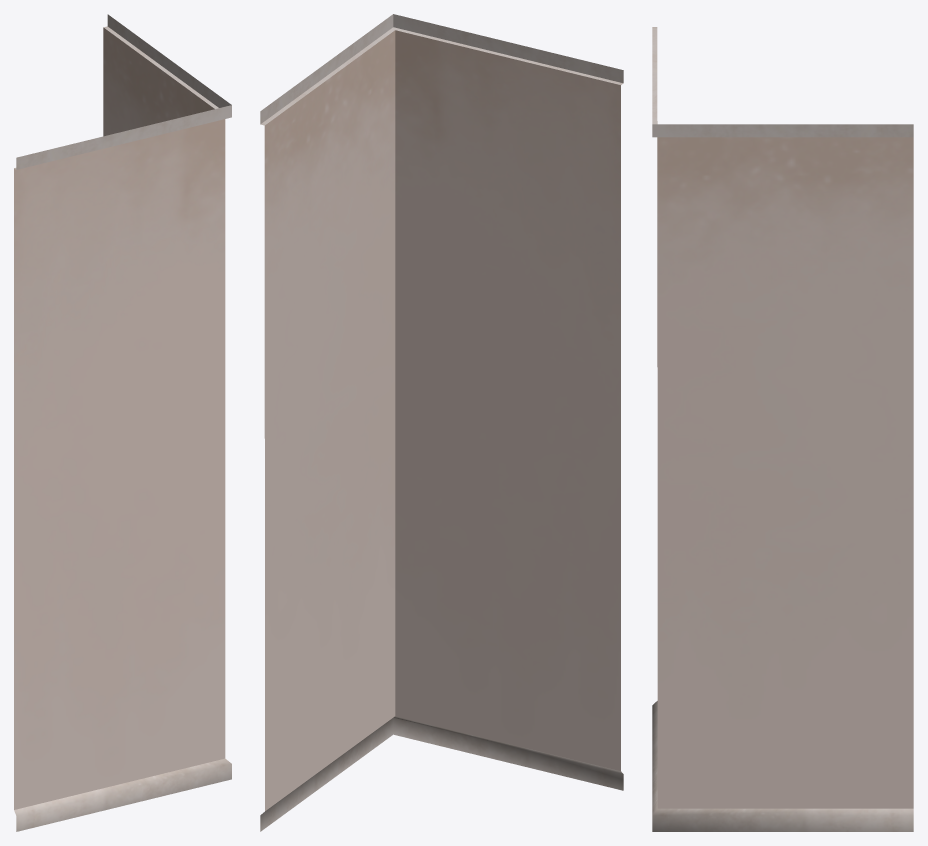
File: MT_Room_OpenCorner.fbx
3 views of the same model, side by side, from view 1: azimuth 30°, elevation 25°; view 2: azimuth 150°, elevation 25°; view 3: azimuth 270°, elevation 25° (orthographic). The views are drawn at different scales.
Visible parts, largest first — view 1: OpenCorner.001; view 2: OpenCorner.001; view 3: OpenCorner.001.
Boxes of the visible parts, x1,y1,x2,y2 form: OpenCorner.001: (14, 14, 231, 831); OpenCorner.001: (260, 14, 623, 831); OpenCorner.001: (652, 27, 913, 831).
Size of the model in its own units: 102 by 305 by 102.
